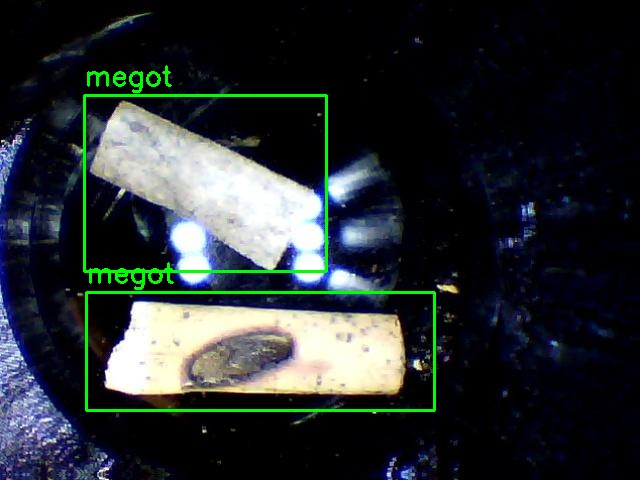megot: (84, 95, 326, 271), (86, 292, 434, 410)
